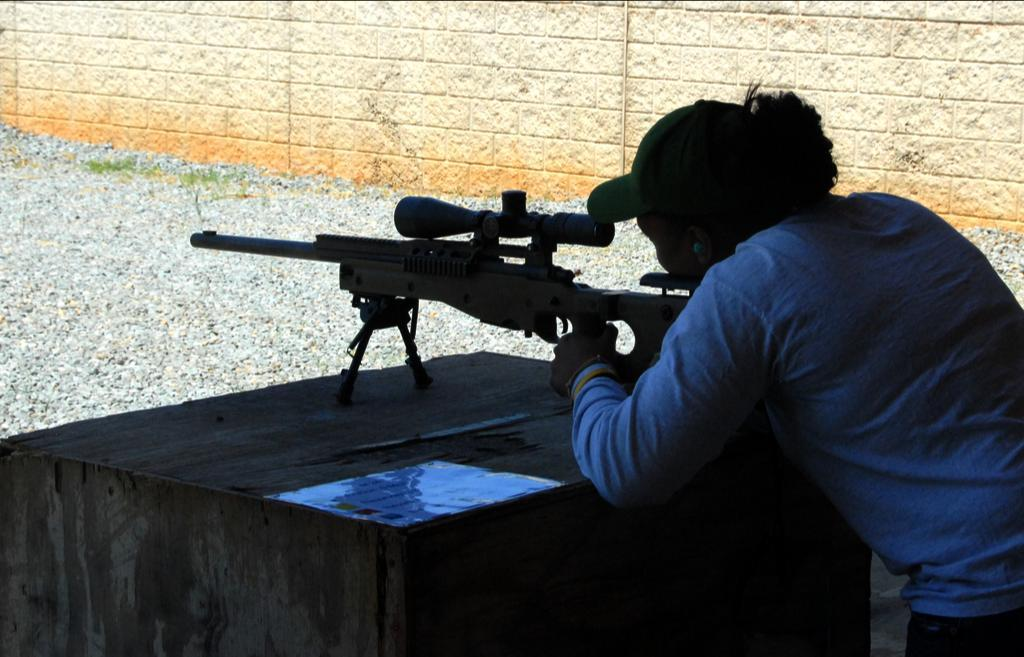gun: (186, 192, 634, 406)
